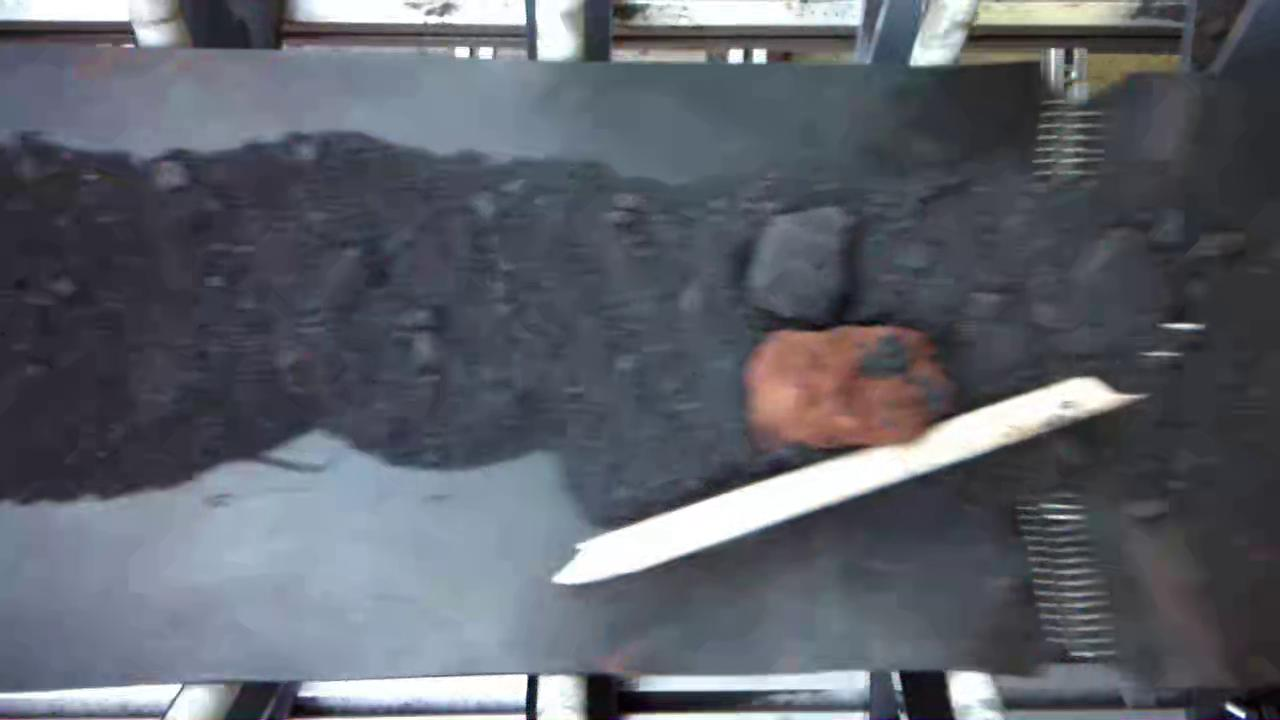conveyor: (10, 79, 1275, 668)
